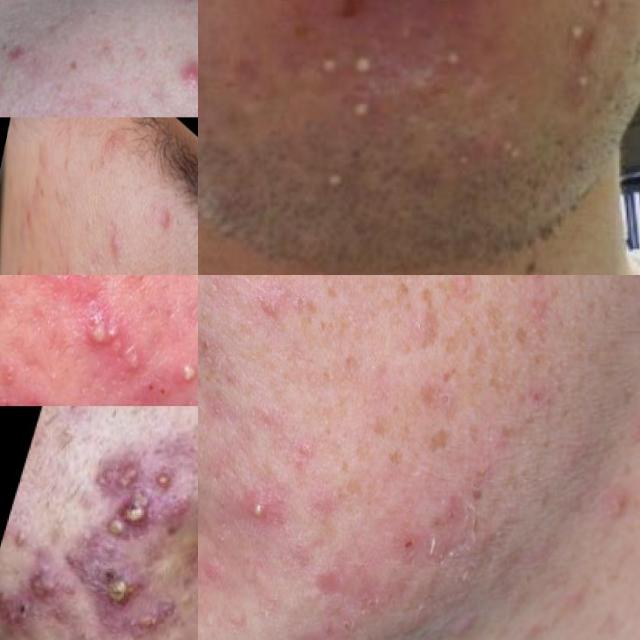comedone: (258, 290, 280, 336), (59, 140, 78, 188), (94, 145, 112, 185), (302, 626, 347, 640), (52, 223, 68, 259)
folliculitis: (313, 36, 402, 140), (554, 0, 624, 100), (484, 122, 536, 176), (436, 39, 486, 86), (327, 164, 368, 210)
papule: (162, 14, 198, 110), (17, 275, 87, 300), (157, 189, 180, 247), (103, 214, 129, 263), (188, 367, 198, 406)
pustule: (244, 490, 286, 552), (166, 344, 198, 403)
sebo-crystan-conglo: (78, 427, 198, 547), (62, 284, 166, 398), (48, 521, 165, 620), (0, 536, 51, 640), (0, 377, 70, 406)
